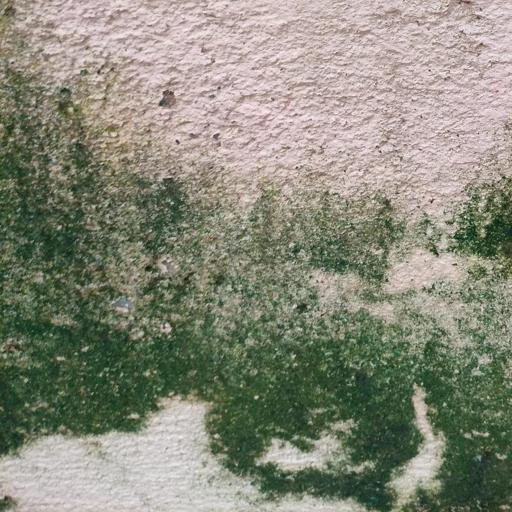algae: (3, 49, 512, 511)
